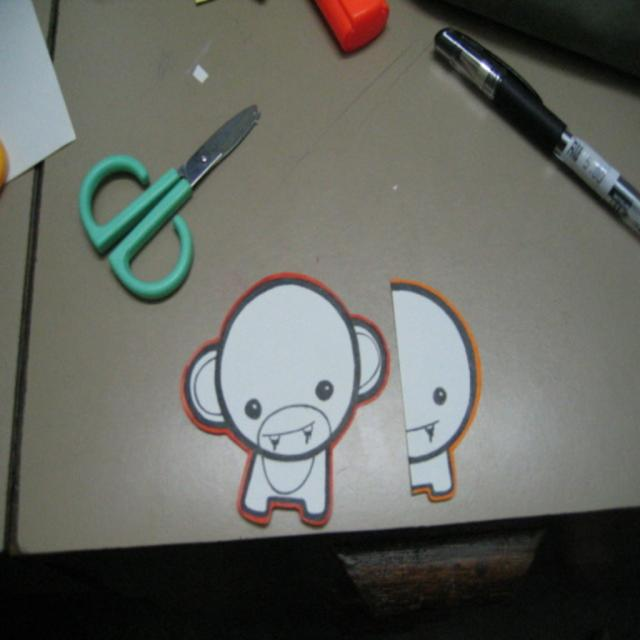scissors: (78, 102, 261, 302)
